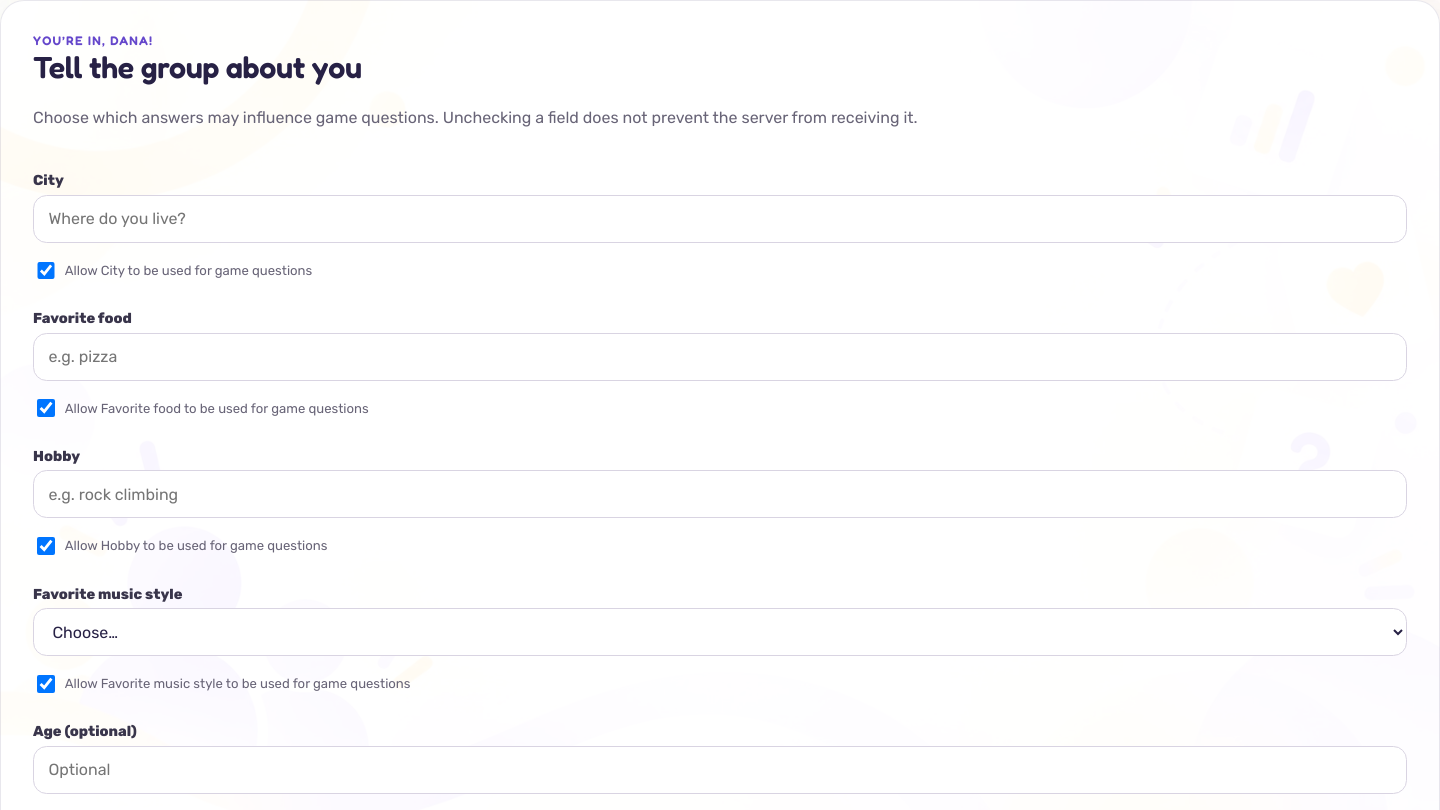
Test: profile type-ahead › keyboard selects a completion
Type "pi" into the dropdown labelled "Favorite food" at (720, 357), box [33,333,1407,381]
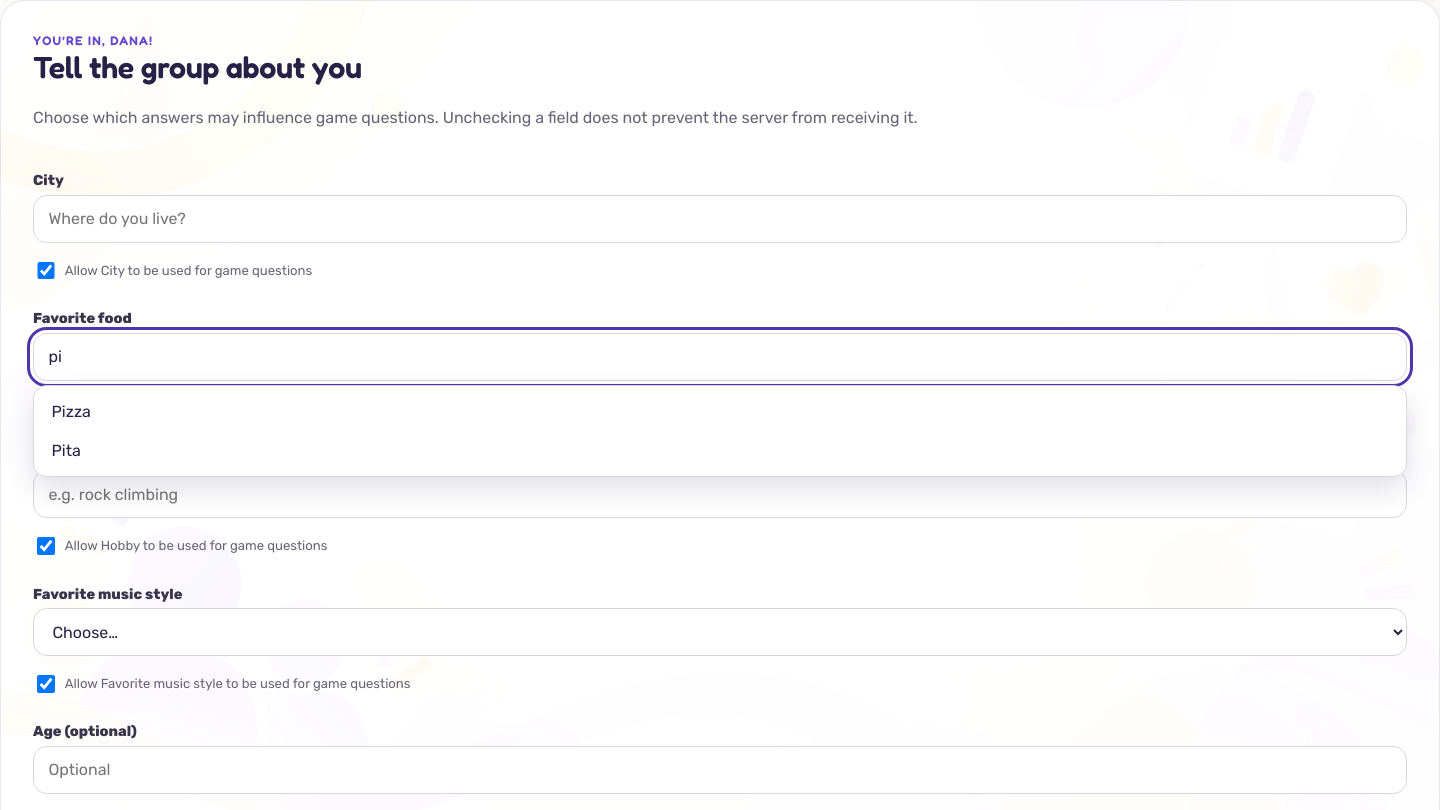
Press Arrowdown Arrowdown Enter
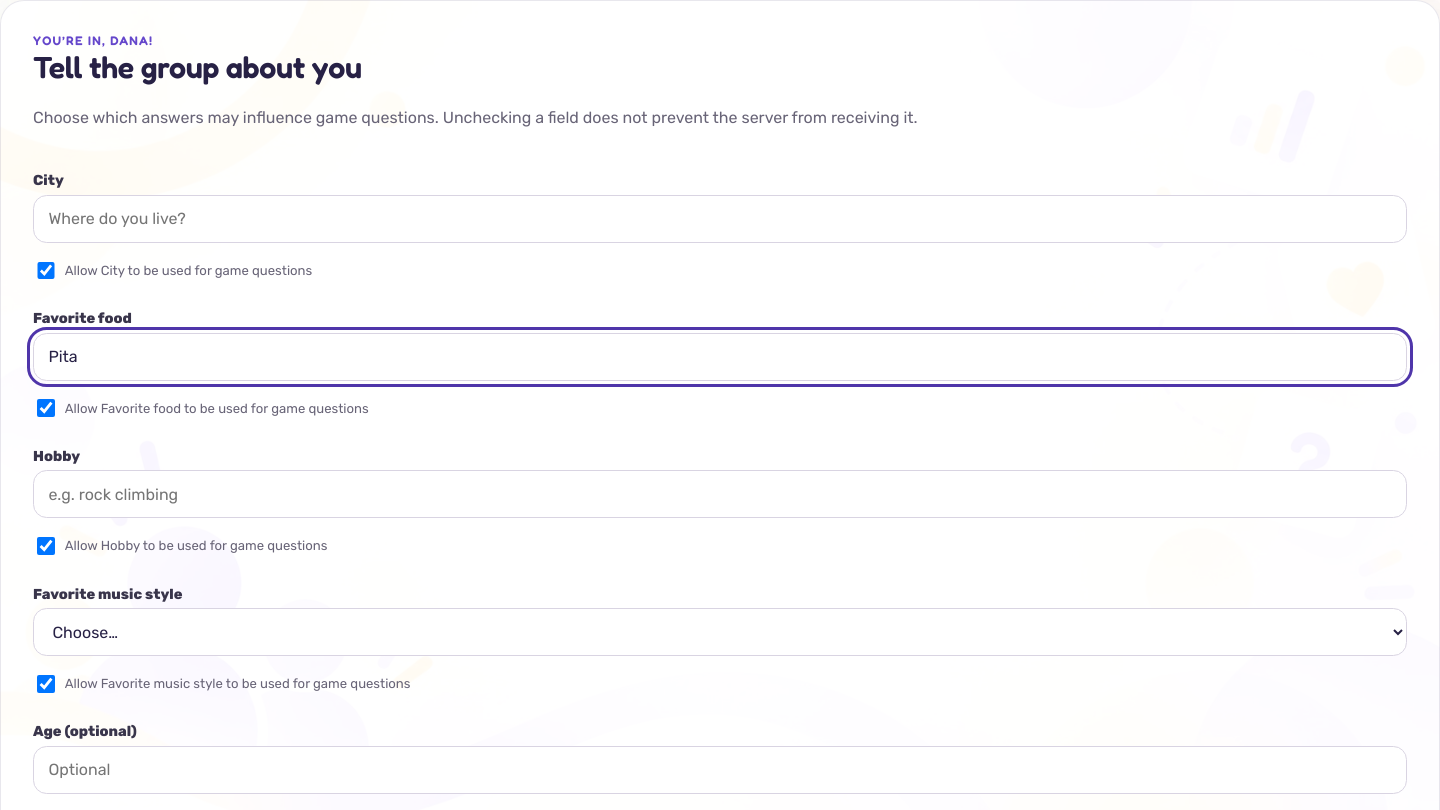
Now the dropdown labelled "Favorite food" holds "Pita", box [33,333,1407,381]
